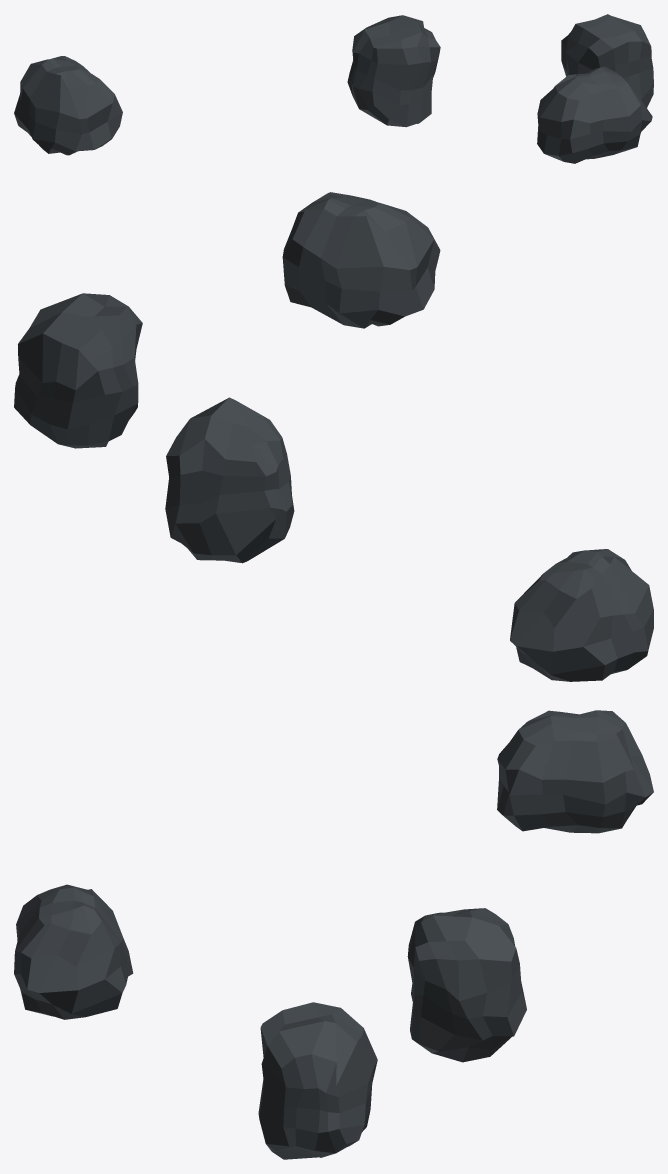
Rendered from Rocks.fbx.
The picture shows the model from 3 angles, top to bottom: view 1: azimuth 30°, elevation 25°; view 2: azimuth 150°, elevation 25°; view 3: azimuth 270°, elevation 25°; orthographic projection. The views are drawn at different scales.
Parts seen in each view (by area): view 1: Rocks; view 2: Rocks; view 3: Rocks.
Boxes of the visible parts, left/top/right/bottom form: Rocks: left=14, top=14, right=653, bottom=163; Rocks: left=14, top=192, right=653, bottom=681; Rocks: left=14, top=710, right=653, bottom=1159.
Bounding box in the file's own units: 957 × 240 × 722.
1 material, 1 textured.
